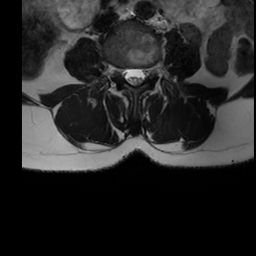CCS_normal: (130, 58, 138, 94)
LFS_normal: (146, 56, 155, 85)
LLS_normal: (138, 58, 146, 89)
RFS_normal: (113, 56, 121, 83)
RLS_normal: (121, 59, 130, 91)
